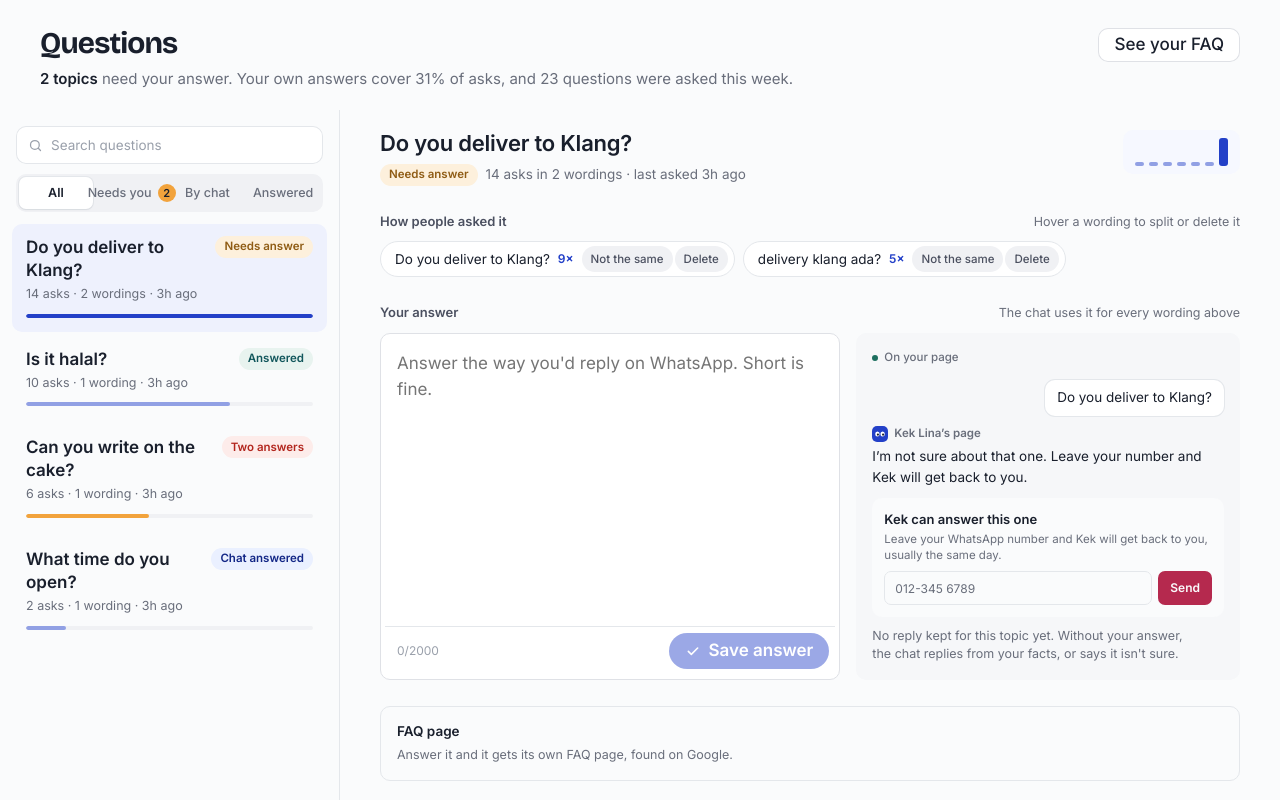
Test: QuestionsScreen, the search › says so when nothing on the page matches
Type "parking" into the search field labelled "Search questions".
click(181, 145); type("parking")  # box [51,127,311,163]
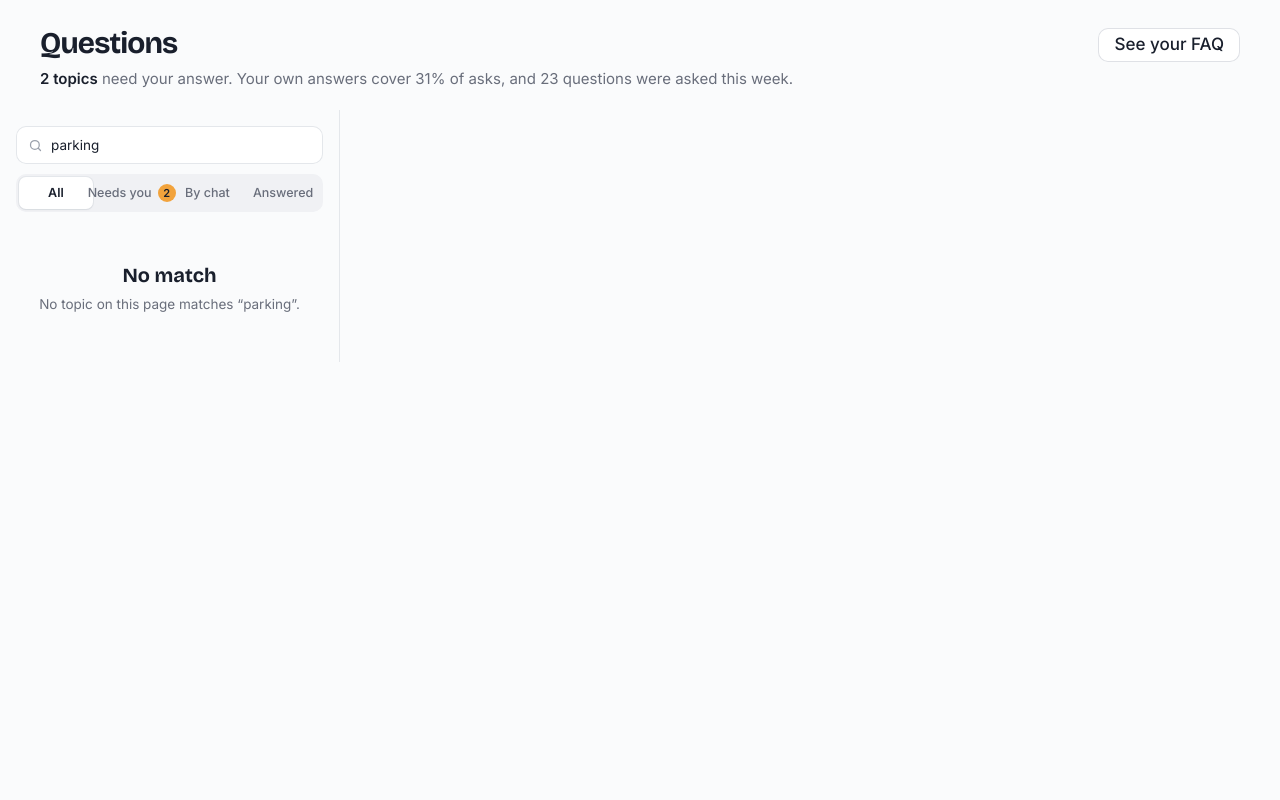
Expected: the text "No topic on this page matches “parking”." is shown, [24,260,315,314]
